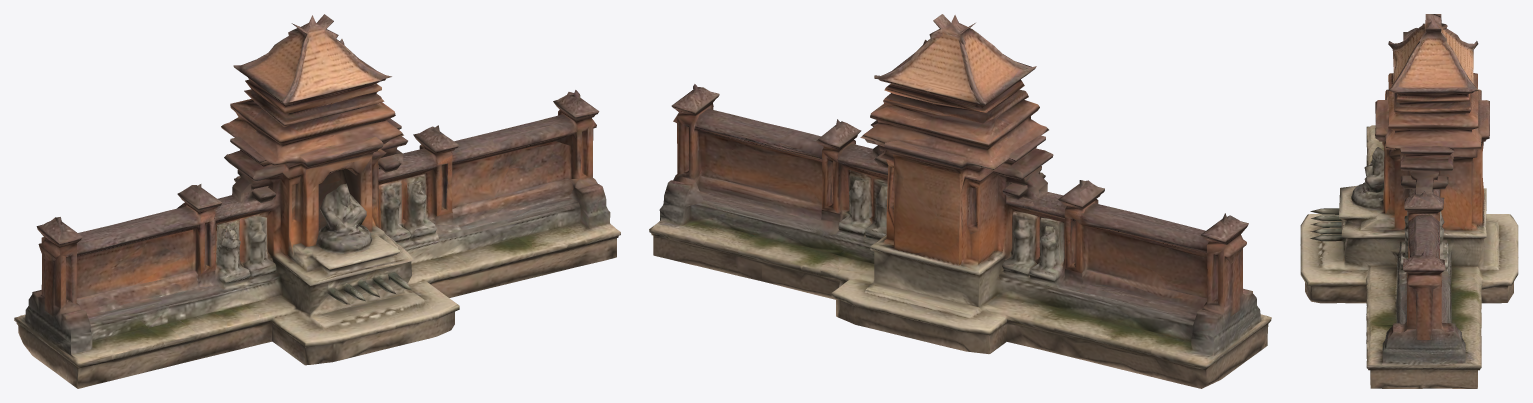
Rendered from panggung_bhagawan.glb.
The picture shows the model from 3 angles, left to right: view 1: azimuth 30°, elevation 25°; view 2: azimuth 150°, elevation 25°; view 3: azimuth 270°, elevation 25°; orthographic projection. The views are drawn at different scales.
Visible parts, largest first — view 1: tripo_node_e00ba800-e203-4fc8-a337-a91e5d9b9f17; view 2: tripo_node_e00ba800-e203-4fc8-a337-a91e5d9b9f17; view 3: tripo_node_e00ba800-e203-4fc8-a337-a91e5d9b9f17.
Part boxes in pixels (x1,y1,x2,y2): tripo_node_e00ba800-e203-4fc8-a337-a91e5d9b9f17: [14, 14, 620, 388]; tripo_node_e00ba800-e203-4fc8-a337-a91e5d9b9f17: [649, 14, 1271, 388]; tripo_node_e00ba800-e203-4fc8-a337-a91e5d9b9f17: [1300, 14, 1518, 388].
Bounding box in the file's own units: 1 × 0.4978 × 0.3854.
Materials: 1 (1 with a texture image).
